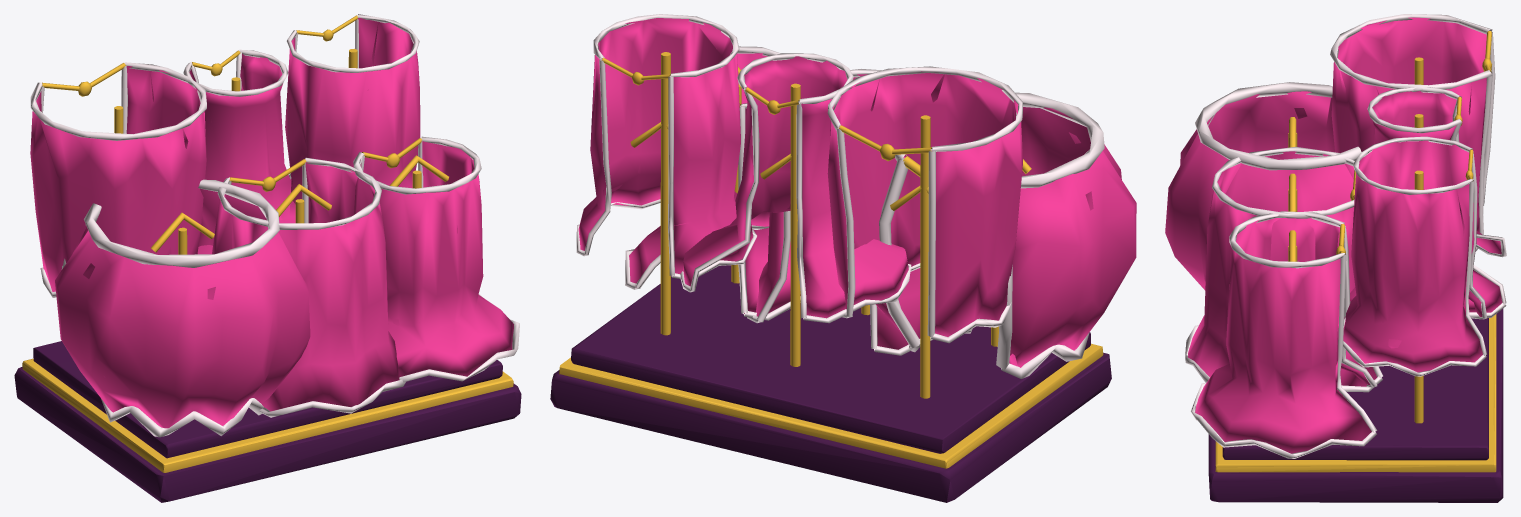
Rendered from chess.set.royal-capes.glb.
3 renders of one model, left to right at view 1: azimuth 30°, elevation 25°; view 2: azimuth 150°, elevation 25°; view 3: azimuth 270°, elevation 25°, orthographic. The views are drawn at different scales.
Parts seen in each view (by area): view 1: tailored_cape, tailored_cape.003, tailored_cape.002, tailored_cape.001, display_base, tailored_cape.005, tailored_cape.004, display_top, brass_band, tailored_binding, tailored_binding.012, tailored_binding.004 (+7 smaller); view 2: display_top, tailored_cape.003, tailored_cape.005, tailored_cape, display_base, tailored_cape.004, brass_band, tailored_cape.001, tailored_cape.002, hanger_stem.003, tailored_binding, hanger_stem.005 (+18 smaller); view 3: tailored_cape.005, tailored_cape.002, tailored_cape, tailored_cape.003, display_top, display_base, tailored_cape.001, brass_band, tailored_cape.004, tailored_binding, tailored_binding.012, tailored_binding.004 (+13 smaller).
Boxes of the visible parts, x1,y1,x2,y2 form: tailored_cape: (55, 188, 310, 428); tailored_cape.003: (30, 66, 206, 291); tailored_cape.002: (354, 141, 513, 376); tailored_cape.001: (212, 162, 400, 411); display_base: (14, 367, 521, 502); tailored_cape.005: (285, 18, 420, 204); tailored_cape.004: (189, 53, 295, 254); display_top: (33, 341, 502, 458); brass_band: (22, 358, 513, 472); tailored_binding: (84, 179, 279, 267); tailored_binding.012: (30, 62, 206, 140); tailored_binding.004: (217, 157, 381, 229); display_top: (571, 265, 1090, 453); tailored_cape.003: (827, 71, 1022, 336); tailored_cape.005: (578, 18, 752, 273); tailored_cape: (876, 107, 1136, 367); display_base: (550, 352, 1111, 502); tailored_cape.004: (683, 56, 908, 318); brass_band: (559, 343, 1103, 468); tailored_cape.001: (755, 74, 920, 349); tailored_cape.002: (629, 53, 800, 313); hanger_stem.003: (920, 115, 930, 398); tailored_binding: (895, 92, 1104, 188); hanger_stem.005: (660, 52, 670, 335); tailored_cape.005: (1343, 140, 1482, 372); tailored_cape.002: (1195, 217, 1371, 453); tailored_cape: (1165, 91, 1353, 290); tailored_cape.003: (1331, 17, 1486, 232); display_top: (1222, 318, 1488, 460); display_base: (1208, 308, 1503, 502); tailored_cape.001: (1188, 151, 1377, 386); brass_band: (1215, 314, 1496, 472); tailored_cape.004: (1350, 91, 1502, 312); tailored_binding: (1195, 82, 1361, 170); tailored_binding.012: (1330, 14, 1492, 91); tailored_binding.004: (1212, 146, 1354, 218).
Size of the model in its own units: 0.6802 by 0.4745 by 0.4721.
